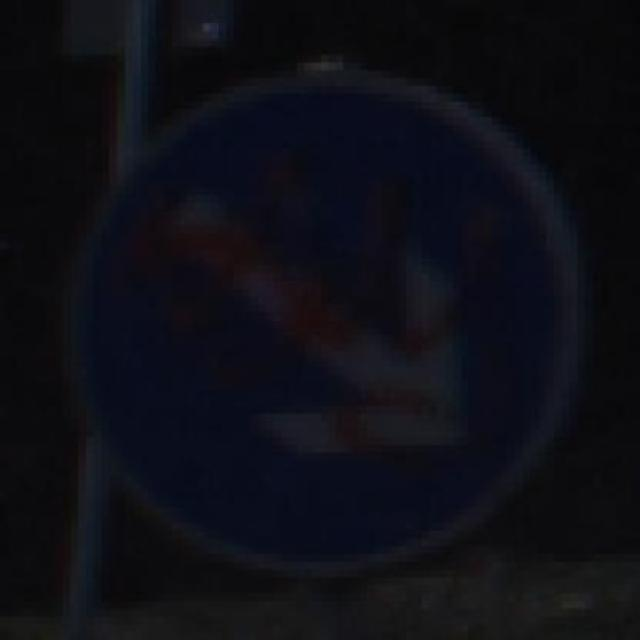Keep-Right: (39, 62, 593, 578)
